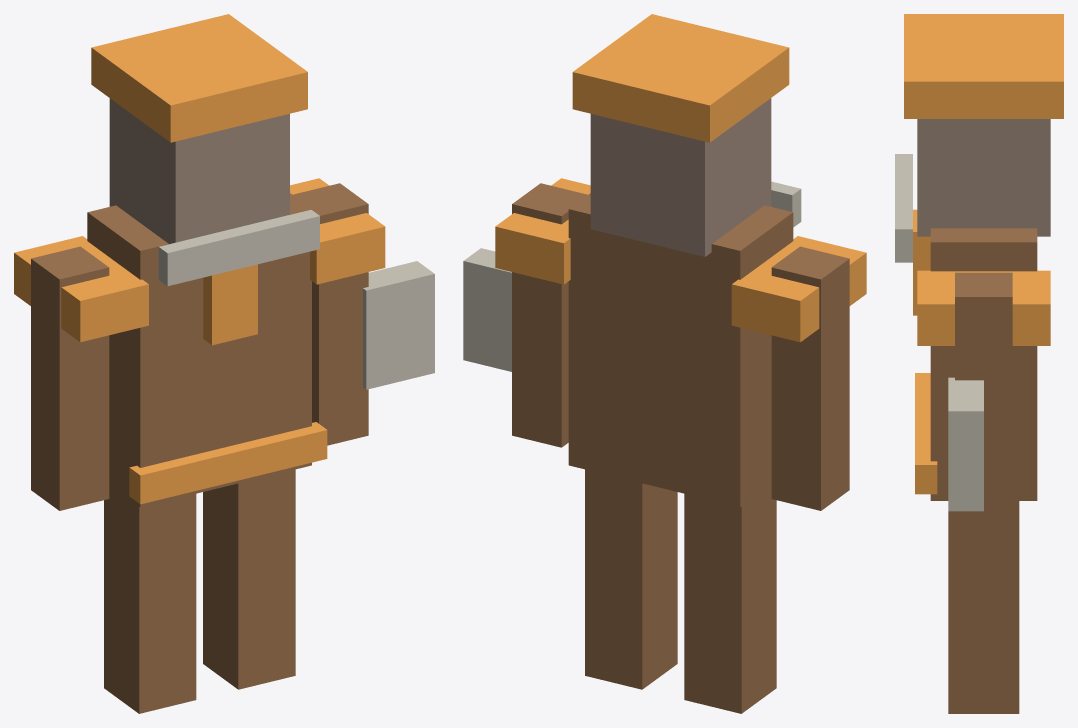
File: 18_makoa_brightlock_specialist_near_pronunciation.glb
3 renders of one model, left to right at view 1: azimuth 30°, elevation 25°; view 2: azimuth 150°, elevation 25°; view 3: azimuth 270°, elevation 25°, orthographic.
Visible parts, largest first — view 1: Makoa Brightlock, Specialist near Pronunciation; view 2: Makoa Brightlock, Specialist near Pronunciation; view 3: Makoa Brightlock, Specialist near Pronunciation.
Boxes of the visible parts, box(x1,y1,x2,y2) form: Makoa Brightlock, Specialist near Pronunciation: box(14, 14, 434, 713); Makoa Brightlock, Specialist near Pronunciation: box(463, 14, 866, 713); Makoa Brightlock, Specialist near Pronunciation: box(895, 14, 1063, 713).
Size of the model in its own units: 0.9175 by 1.47 by 0.3576.
